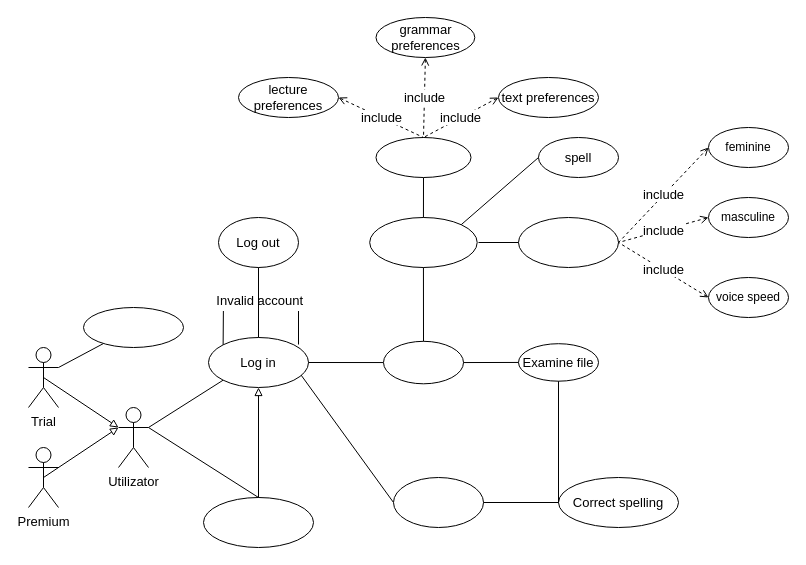
Some shapes in this 806 by 565 pixel diagram are drawn without their labels. Each missing label, with the centre of its shape:
"Choose file" goes at [423,362].
"Get Premium Version" goes at [133,327].
"Immersive reader" goes at [423,242].
"Insert text" goes at [438,502].
"preferences" goes at [423,157].
"Register" goes at [258,522].
"voice settings" goes at [568,242].
